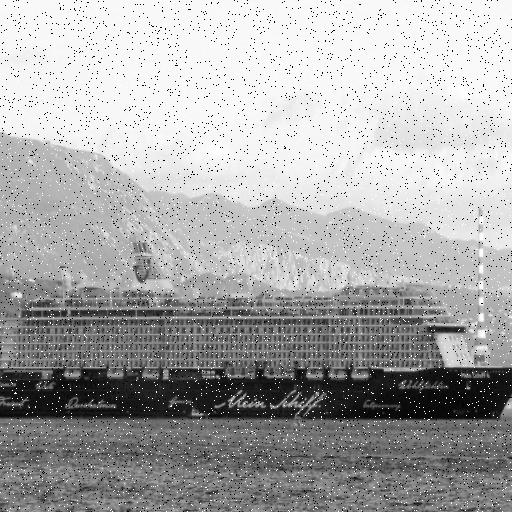cruises: (1, 238, 512, 433)
